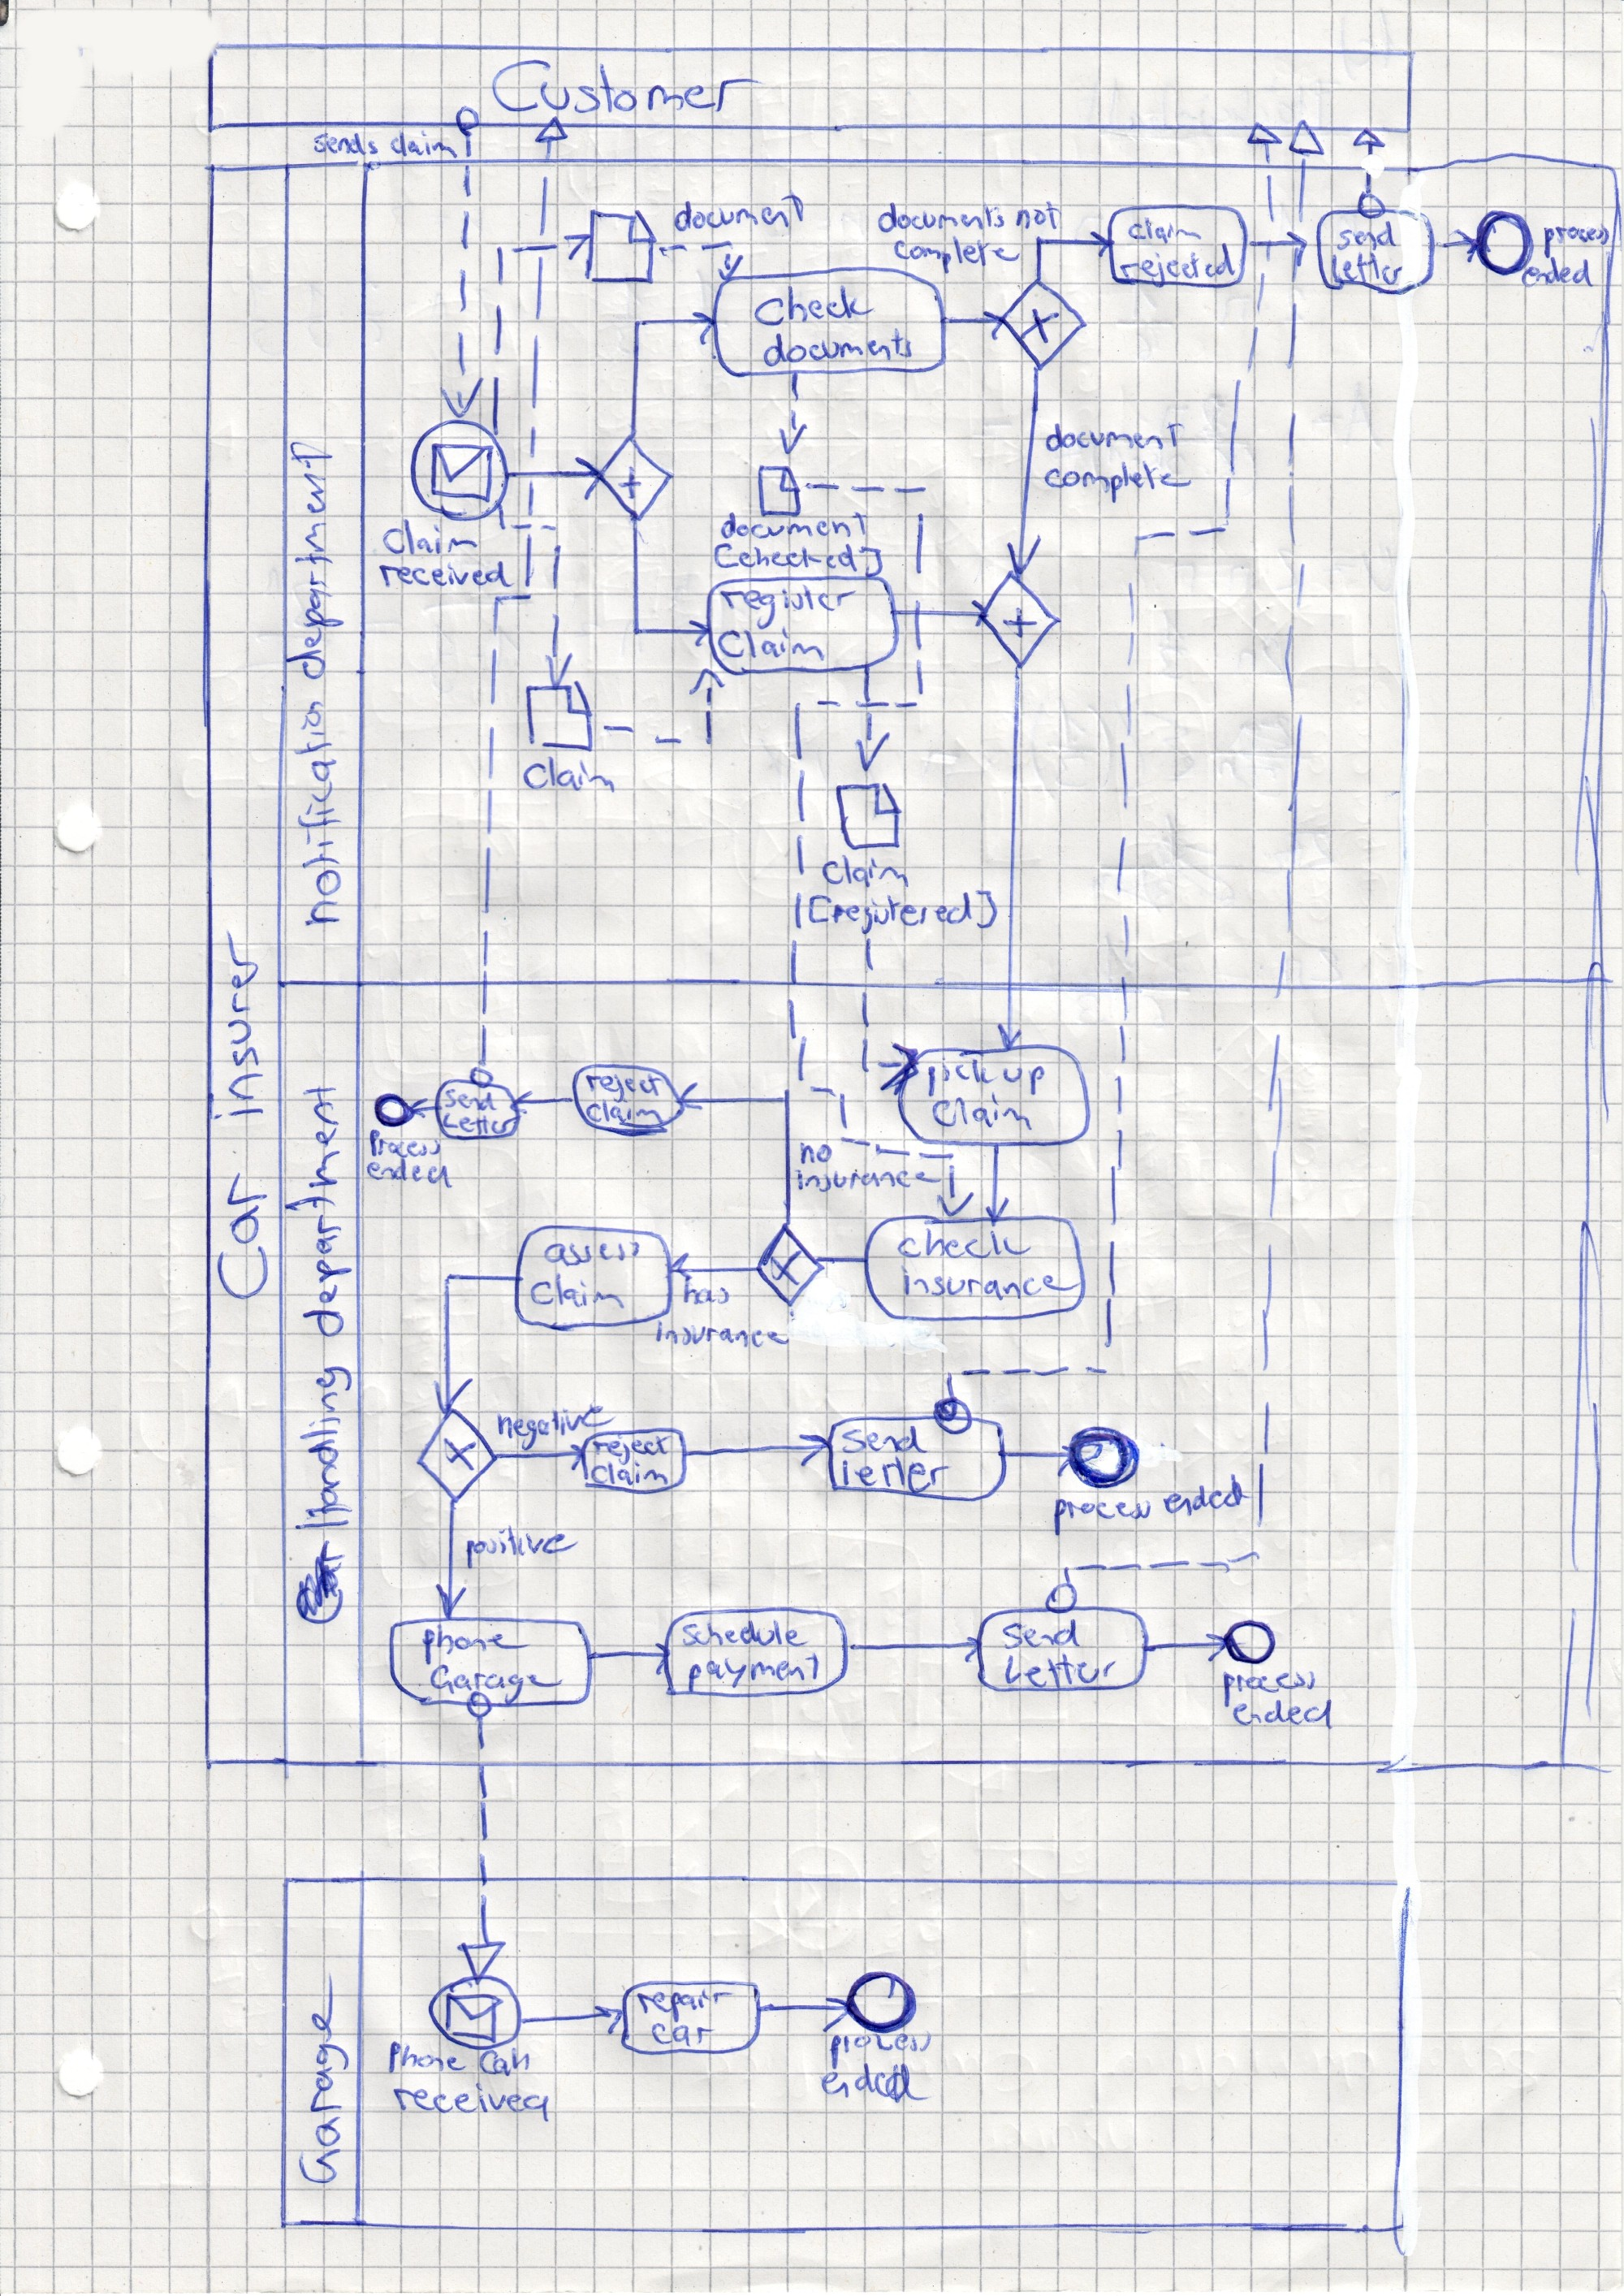Car: (211, 1166, 276, 1306)
Claim: (712, 624, 833, 668), (517, 749, 624, 798), (376, 513, 483, 563), (816, 849, 916, 891)
Customer: (482, 53, 777, 121)
Garage: (292, 1964, 355, 2192), (424, 1658, 568, 1711)
Handling: (288, 1359, 359, 1540)
Letter: (1323, 246, 1411, 290), (438, 1108, 527, 1141)
Phone: (383, 2036, 471, 2080)
Process: (364, 1123, 448, 1164)
[checked]: (707, 538, 888, 582)
[registered]: (801, 886, 1004, 941)
assess: (538, 1232, 647, 1273)
can: (475, 2043, 534, 2082)
car: (647, 2018, 721, 2050)
check: (747, 280, 882, 332), (891, 1222, 1040, 1268)
claim: (926, 1086, 1037, 1136), (526, 1268, 633, 1317), (585, 1456, 675, 1493), (580, 1095, 670, 1132), (383, 125, 462, 163), (1121, 213, 1207, 248)
complete: (1037, 455, 1197, 510), (888, 229, 1028, 280)
department: (279, 1078, 359, 1345), (279, 434, 352, 686)
document: (666, 183, 812, 237), (715, 506, 874, 547), (1039, 417, 1190, 457)
documents: (758, 323, 919, 374), (872, 195, 1011, 239)
ended: (816, 2055, 939, 2110), (1156, 1468, 1257, 1522), (1229, 1691, 1338, 1737), (360, 1150, 457, 1194), (1515, 251, 1599, 294)
has: (678, 1271, 735, 1310)
insurance: (895, 1259, 1086, 1306), (791, 1162, 946, 1199), (650, 1315, 796, 1354)
insurer: (207, 925, 271, 1132)
letter: (835, 1452, 956, 1501), (997, 1647, 1121, 1693)
negative: (492, 1398, 620, 1456)
no: (794, 1139, 837, 1169)
not: (1009, 195, 1069, 236)
notification: (285, 694, 348, 935)
payment: (682, 1646, 826, 1700)
phone: (417, 1619, 536, 1668)
pick: (919, 1053, 1002, 1106)
positive: (460, 1521, 584, 1573)
process: (824, 2024, 939, 2076), (1048, 1493, 1158, 1542), (1218, 1667, 1322, 1716), (1538, 216, 1613, 264)
received: (387, 2078, 555, 2131), (373, 554, 520, 592)
register: (715, 578, 863, 635)
reject: (587, 1431, 677, 1471), (578, 1067, 668, 1108)
rejected: (1113, 237, 1241, 294)
repair: (631, 1985, 740, 2029)
schedule: (677, 1612, 814, 1653)
send: (835, 1420, 933, 1461), (997, 1614, 1086, 1656), (1330, 216, 1401, 257), (441, 1083, 503, 1116)
sends: (308, 128, 385, 160)
up: (997, 1057, 1053, 1102)
